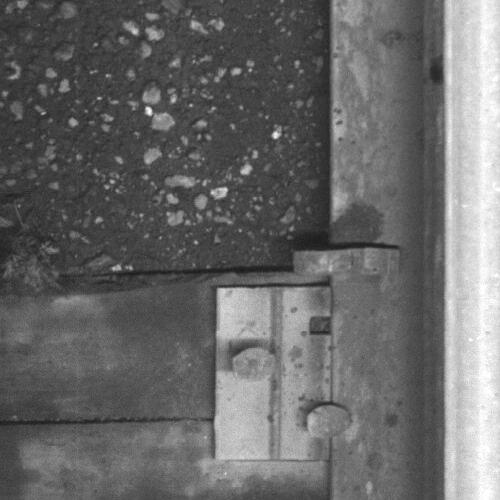crutch: (292, 243, 402, 278)
do: (213, 284, 353, 462)
hole_do: (300, 307, 344, 344)
rail: (442, 1, 500, 500)
tie_wood: (1, 269, 332, 500)
wood_crack: (1, 412, 214, 432)
